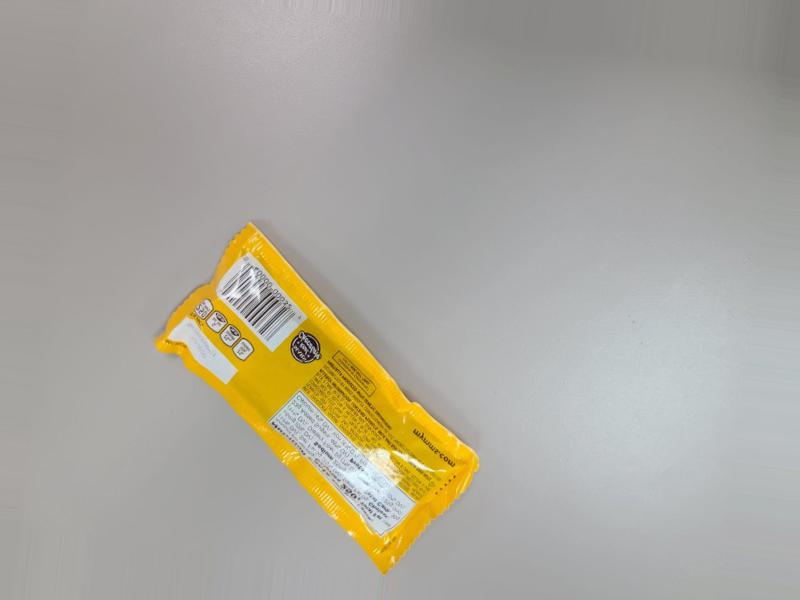m&m: (166, 195, 483, 600)
